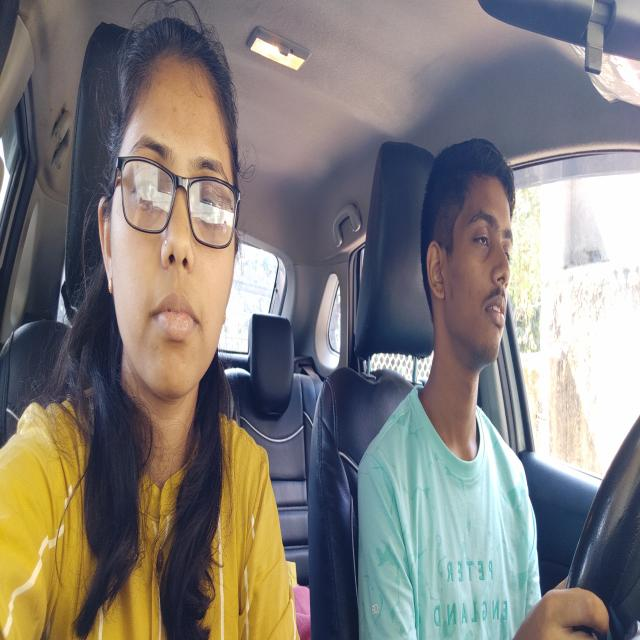drowsy: (418, 136, 527, 378)
person: (89, 20, 245, 413)
